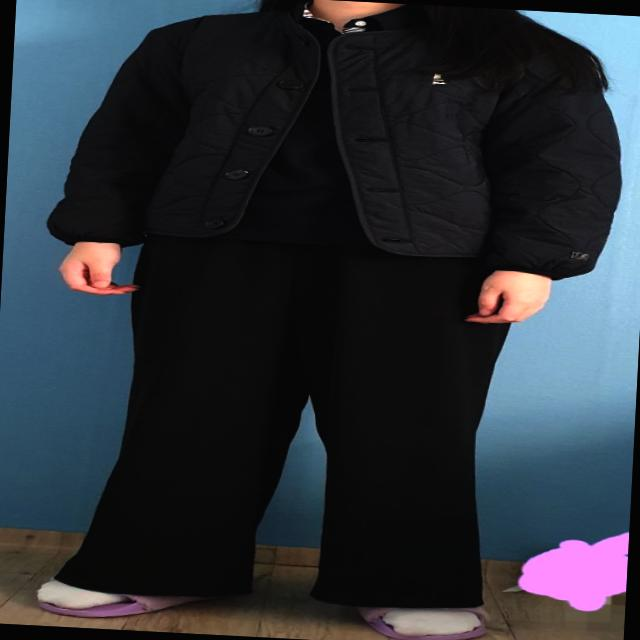padding: (37, 0, 633, 282)
trainingpants: (40, 217, 528, 612)
